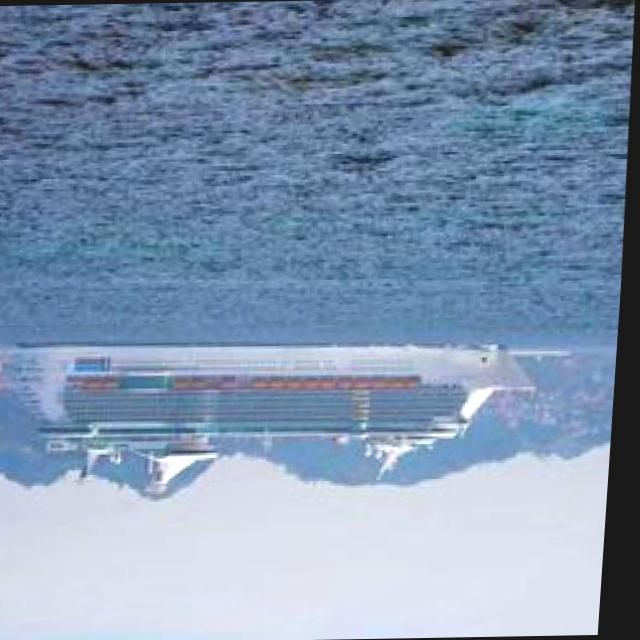ship2: (15, 343, 539, 491)
